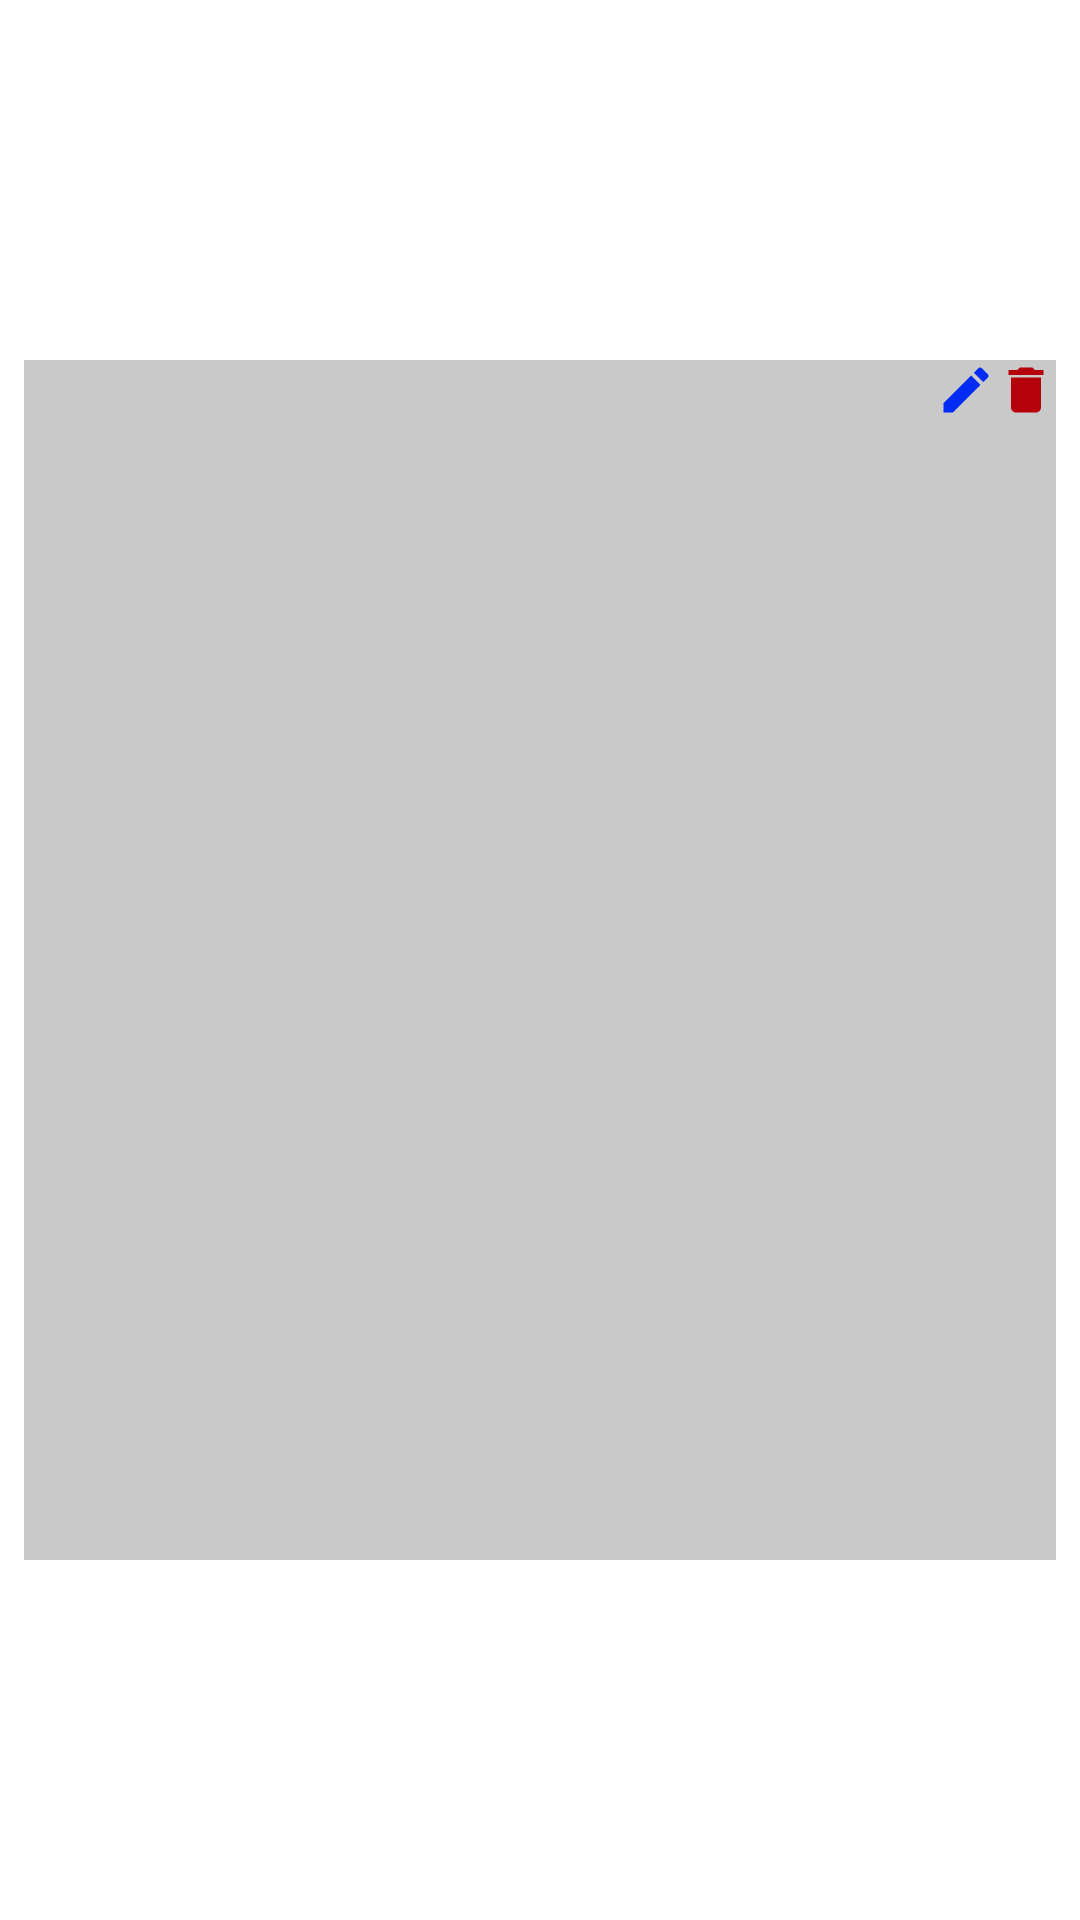

Screen size 1080x1920. Icon name, then its center in pixels as (x,y):
delete: (1026,390)
edit: (966,390)
